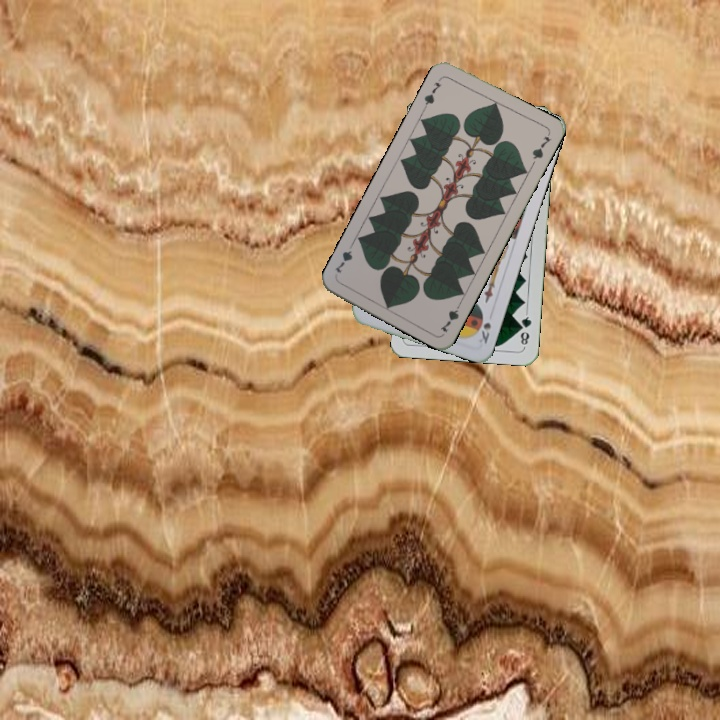G7: (436, 298, 464, 335), (420, 78, 444, 111)
G8: (516, 309, 534, 349)
SK: (475, 318, 494, 346)
